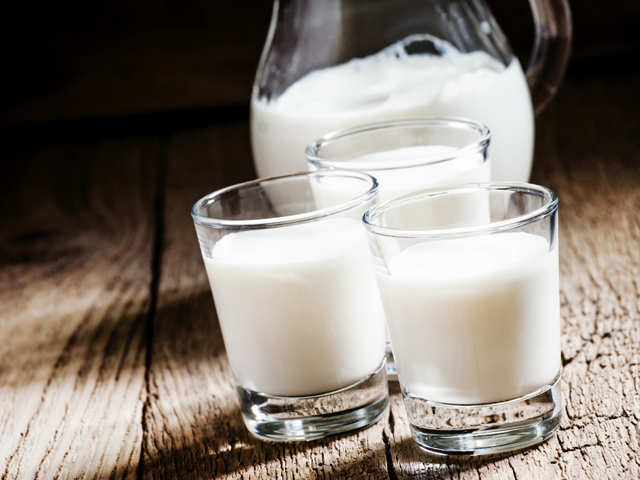glass of milk: (383, 195, 581, 460), (197, 185, 381, 447), (315, 123, 498, 202)
